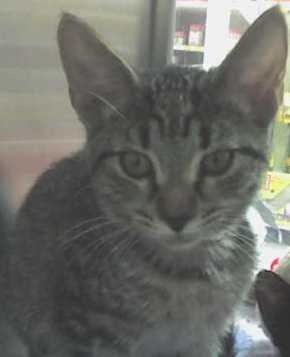Cat: (12, 7, 288, 356)
